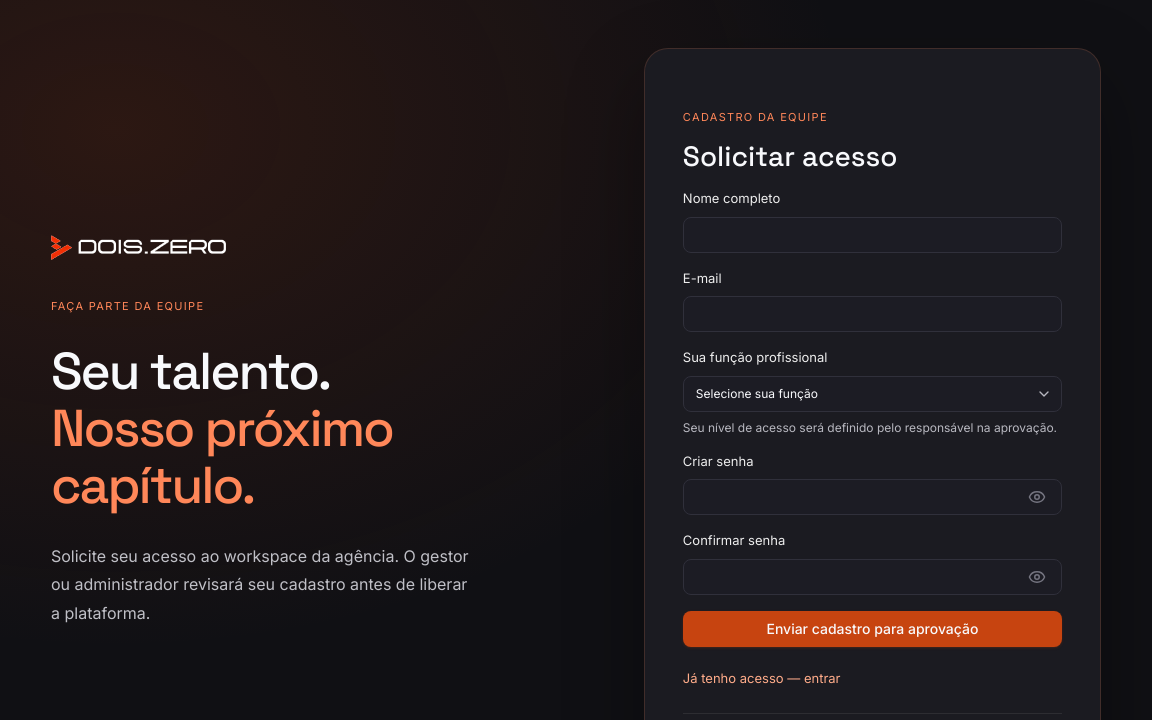
it: Team registration › does not submit mismatched passwords
The width and height of the screenshot is (1152, 720).
Type "Profissional Teste" into the field labelled "Nome completo" at (872, 235), box [683,217,1062,253]
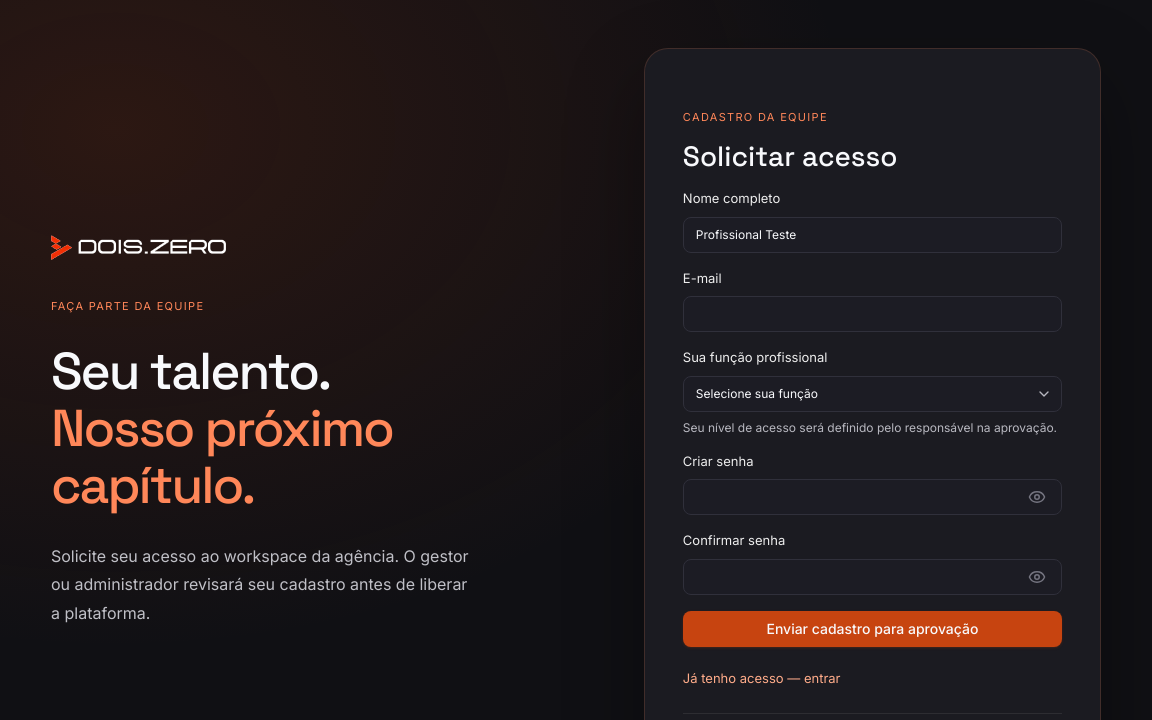
Type "test@example.com" into the field labelled "E-mail" at (872, 314), box [683,296,1062,332]
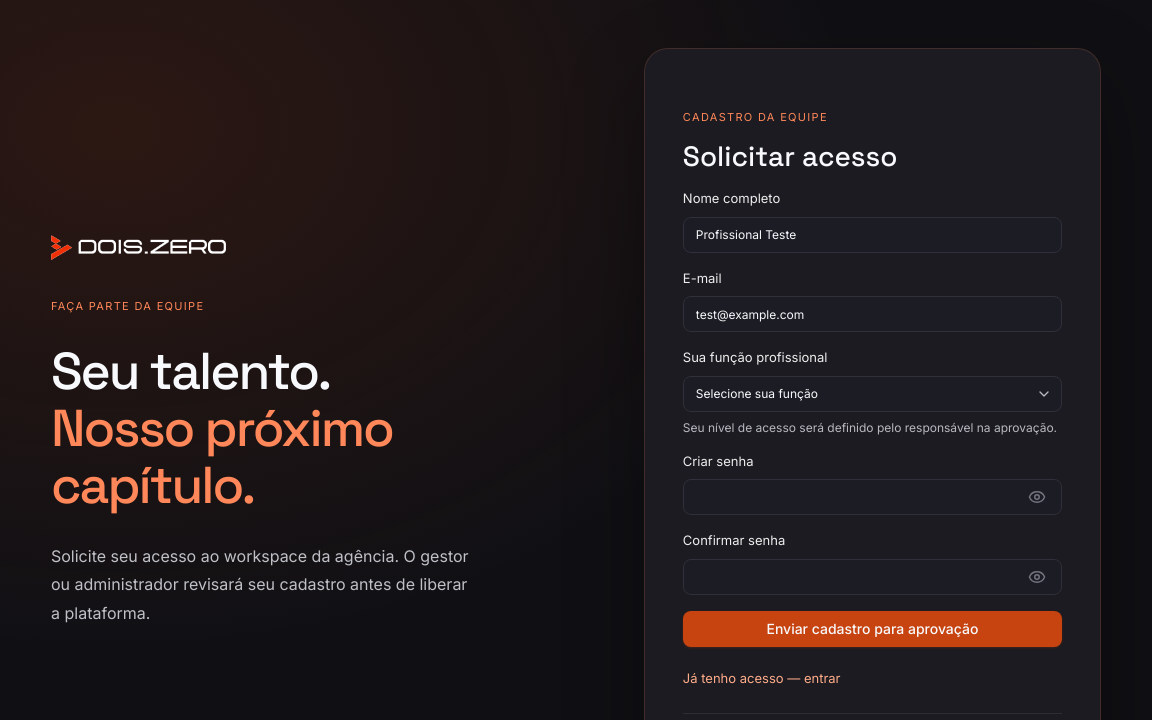
Select "Designer" in the dropdown labelled "Sua função profissional" at (872, 394), box [683,376,1062,412]
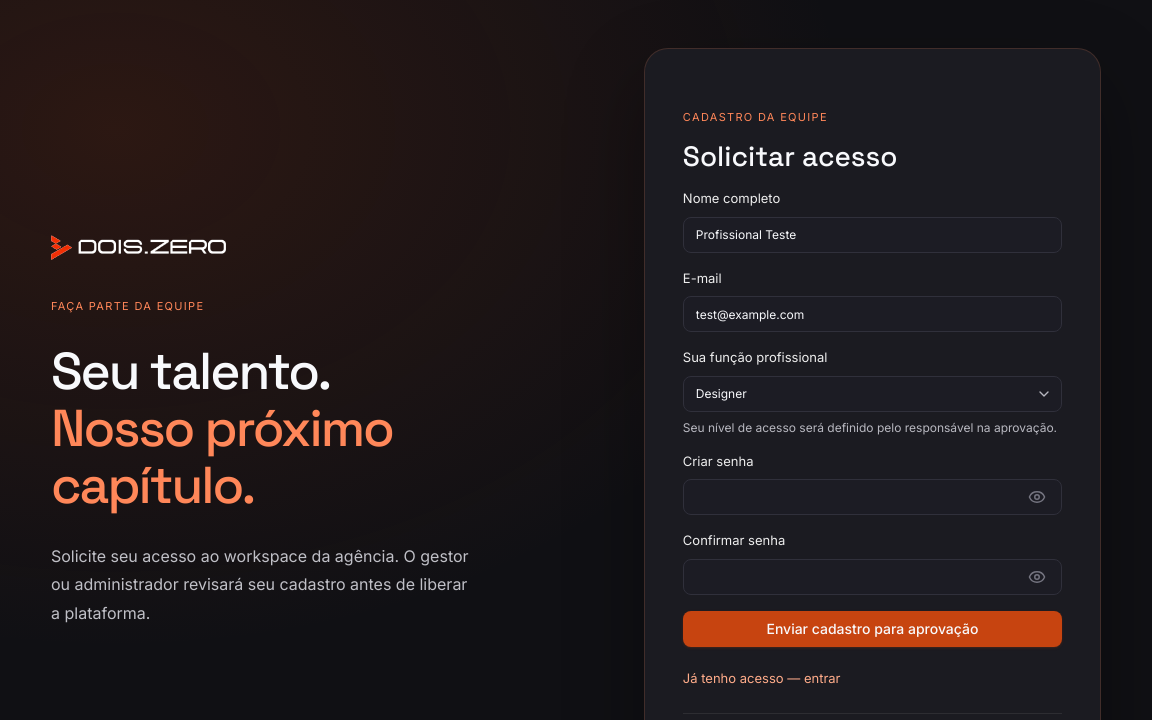
Type "test-password" into the password field labelled "Criar senha" at (872, 497), box [683,479,1062,515]
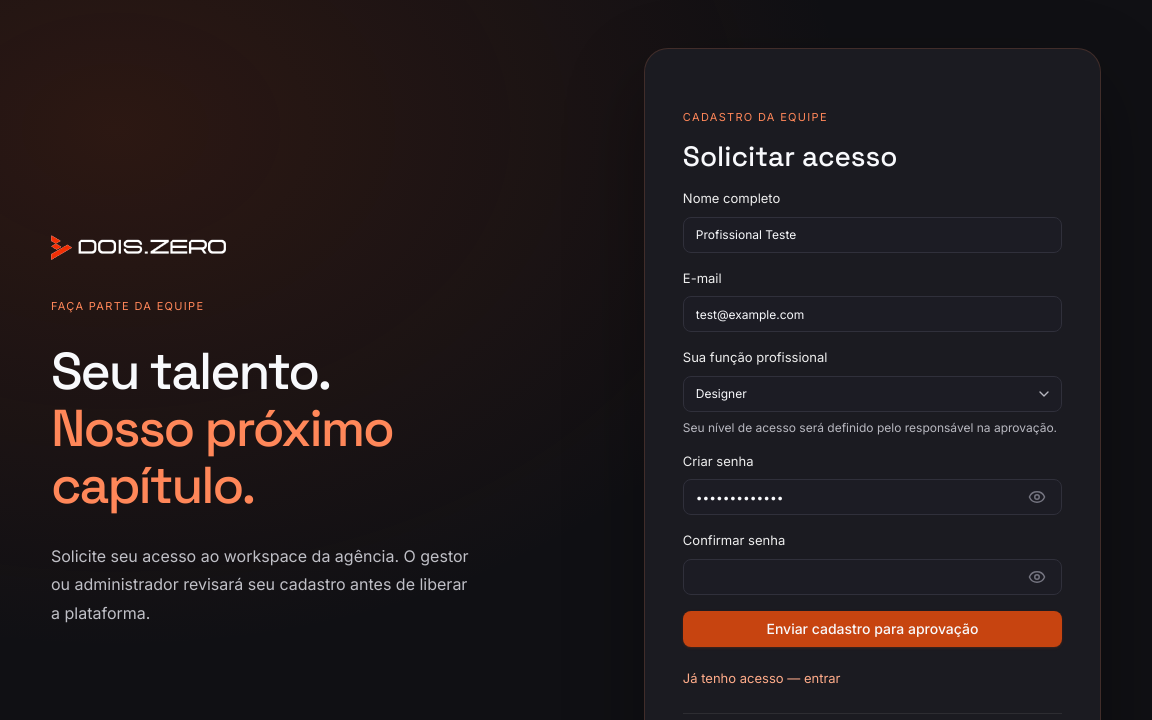
Type "different-password" into the password field labelled "Confirmar senha" at (872, 577), box [683,559,1062,595]
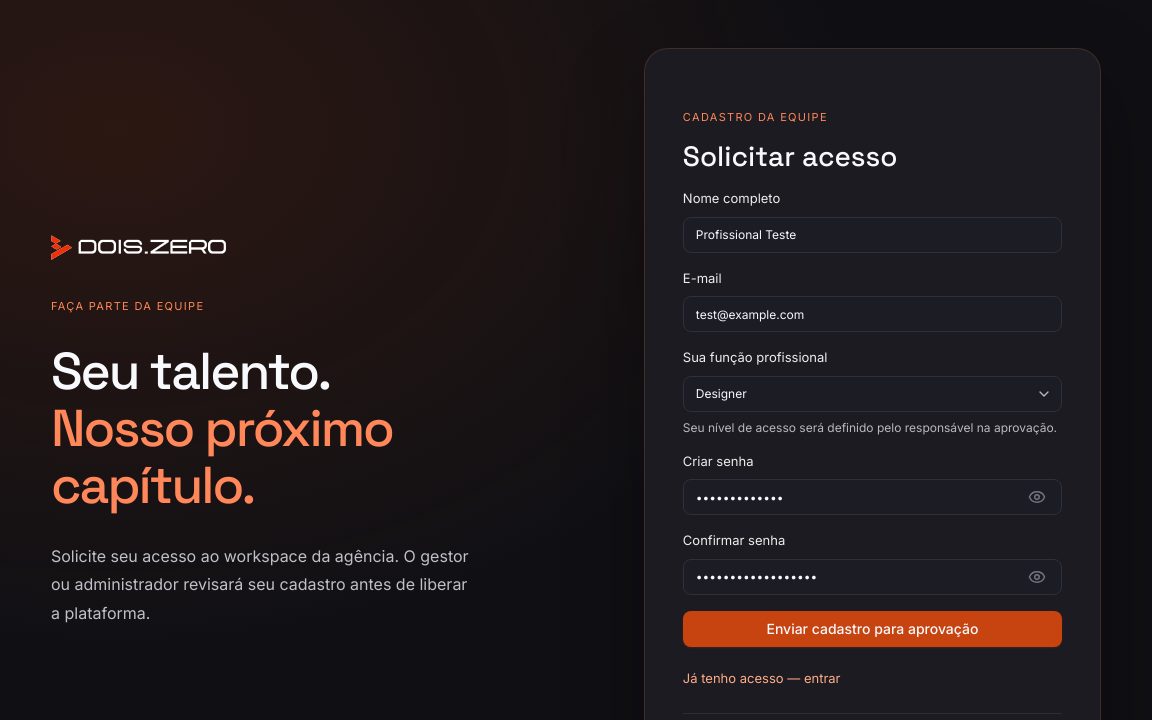
Click the button "Enviar cadastro para aprovação" at (872, 629), box [683,611,1062,647]
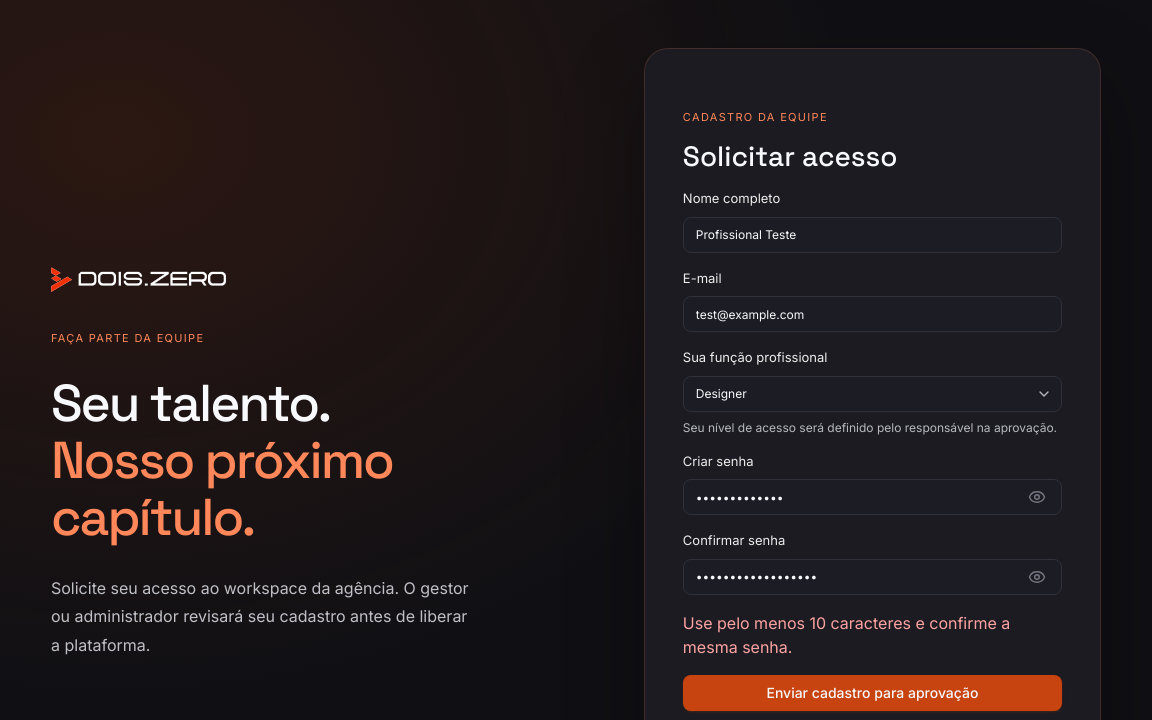
Expected: the message "Use pelo menos 10 caracteres e confirme a mesma senha." is shown, [683,611,1062,659]
